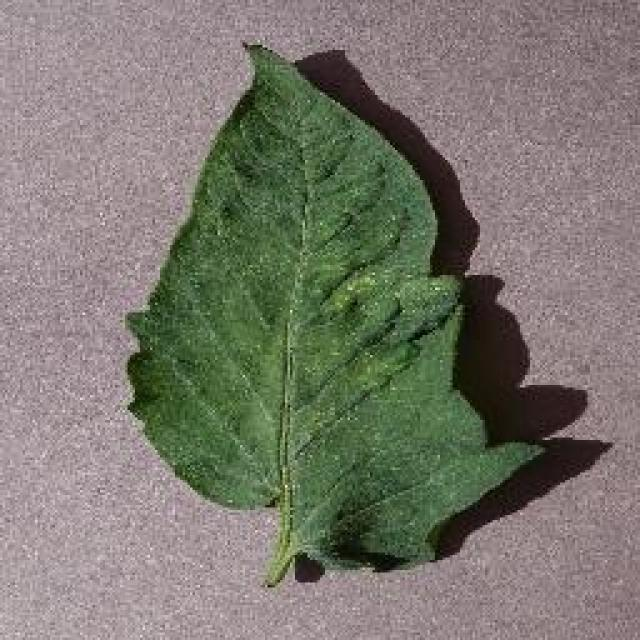Tom_Spider_mites Two-spotted_spider_mite: (228, 214, 452, 425)
